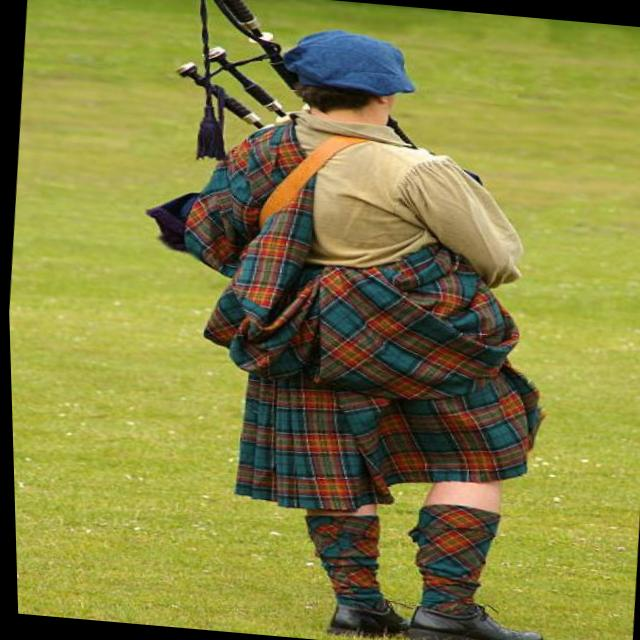no helmet: (262, 15, 428, 156)
